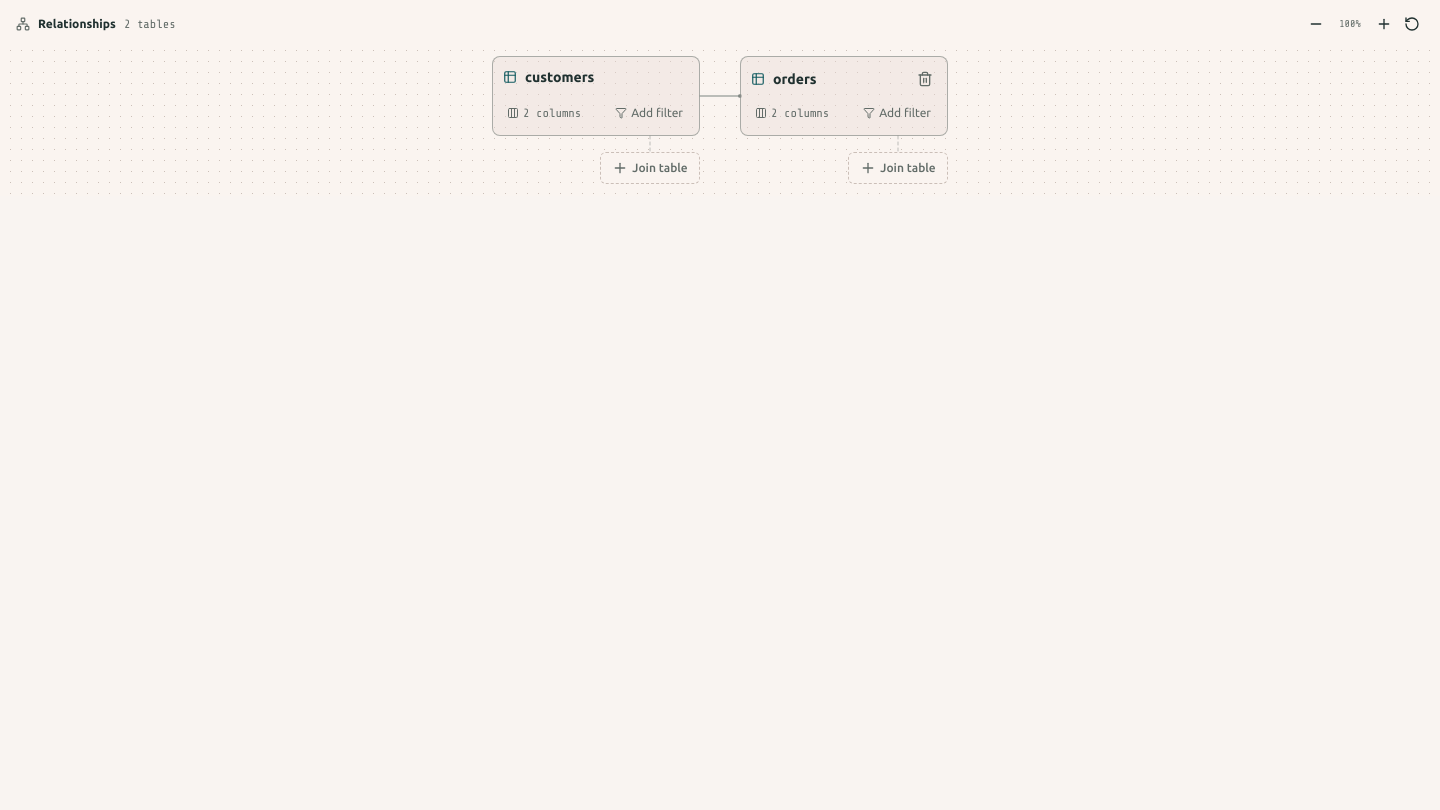
Test: TableNavigator › navigates results with arrows, skips already joined tables and ignores Enter with no matches
Click the button with aria-label "Add related table to customers".
click(650, 168)  # box [600,152,700,184]
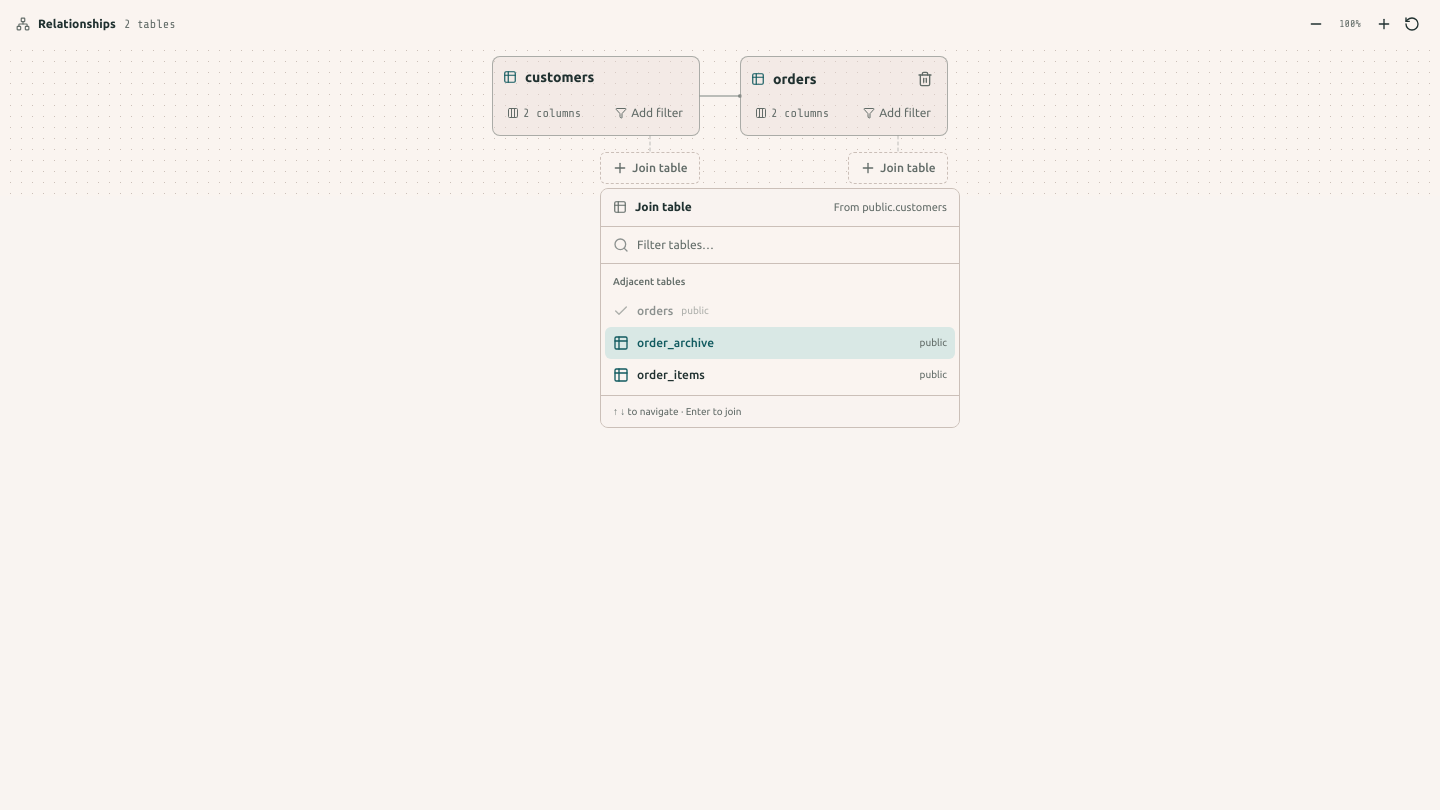
Type "missing" into the dropdown labelled "Filter tables".
click(792, 244); type("missing")  # box [637,226,947,262]
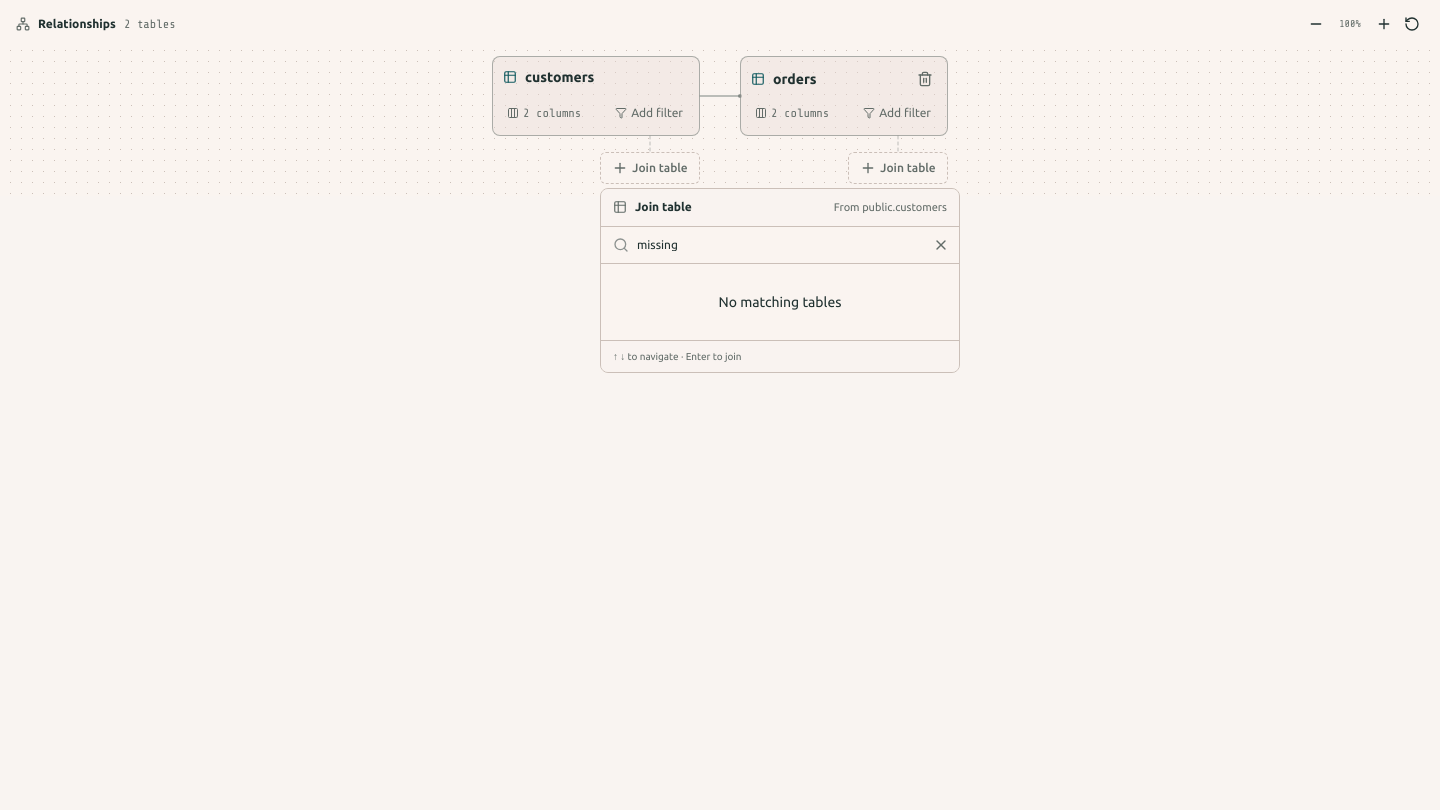
Press Enter
Result: the dialog is shown at [600,188,960,372]
Replace the text in the dropdown named "Filter tables" with "order" at (792, 244), box [637,226,947,262]
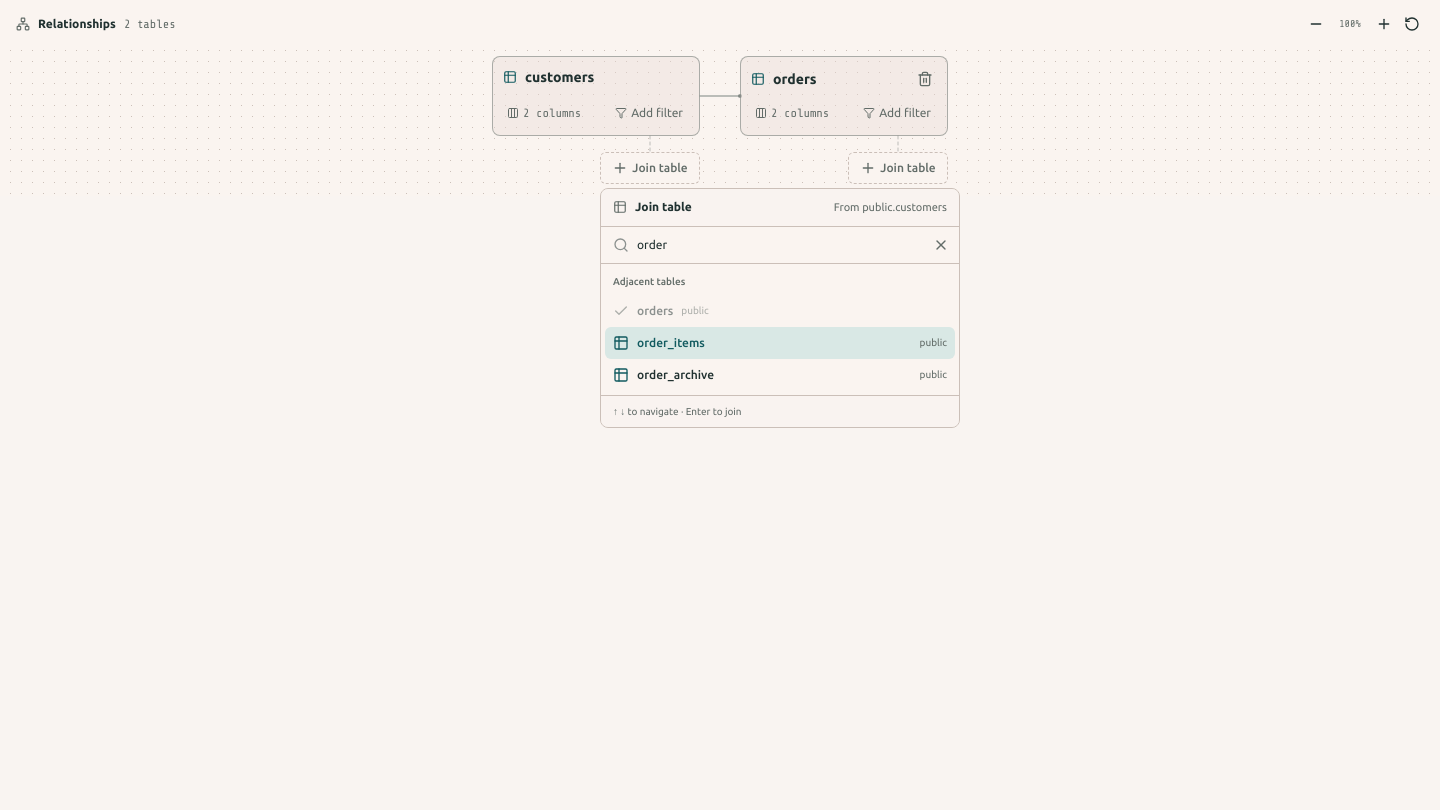
Result: the option "order_items public" is selected at [605,326,955,358]
Press Arrowdown
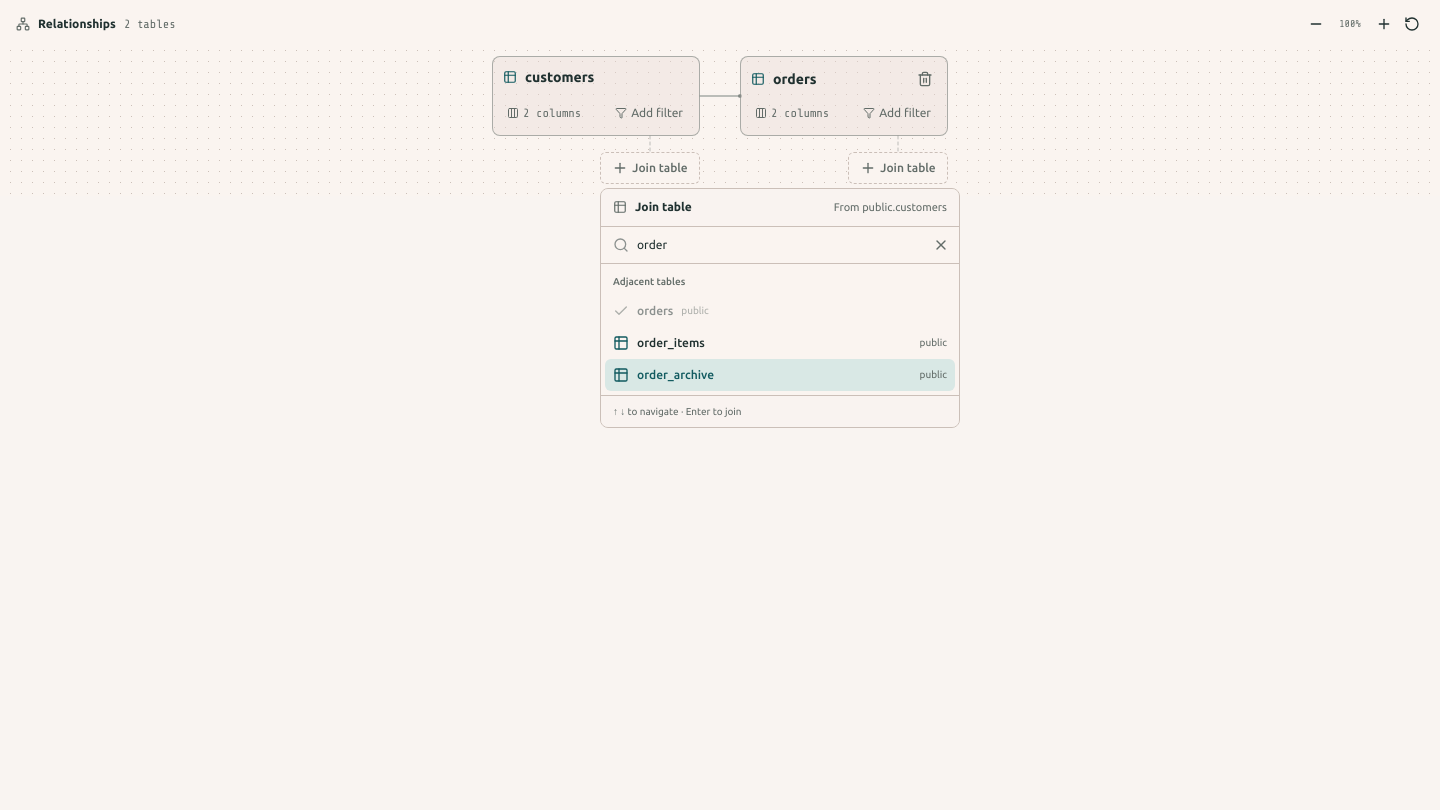
Result: the option "order_archive public" is selected at [605,358,955,390]
Press Arrowup
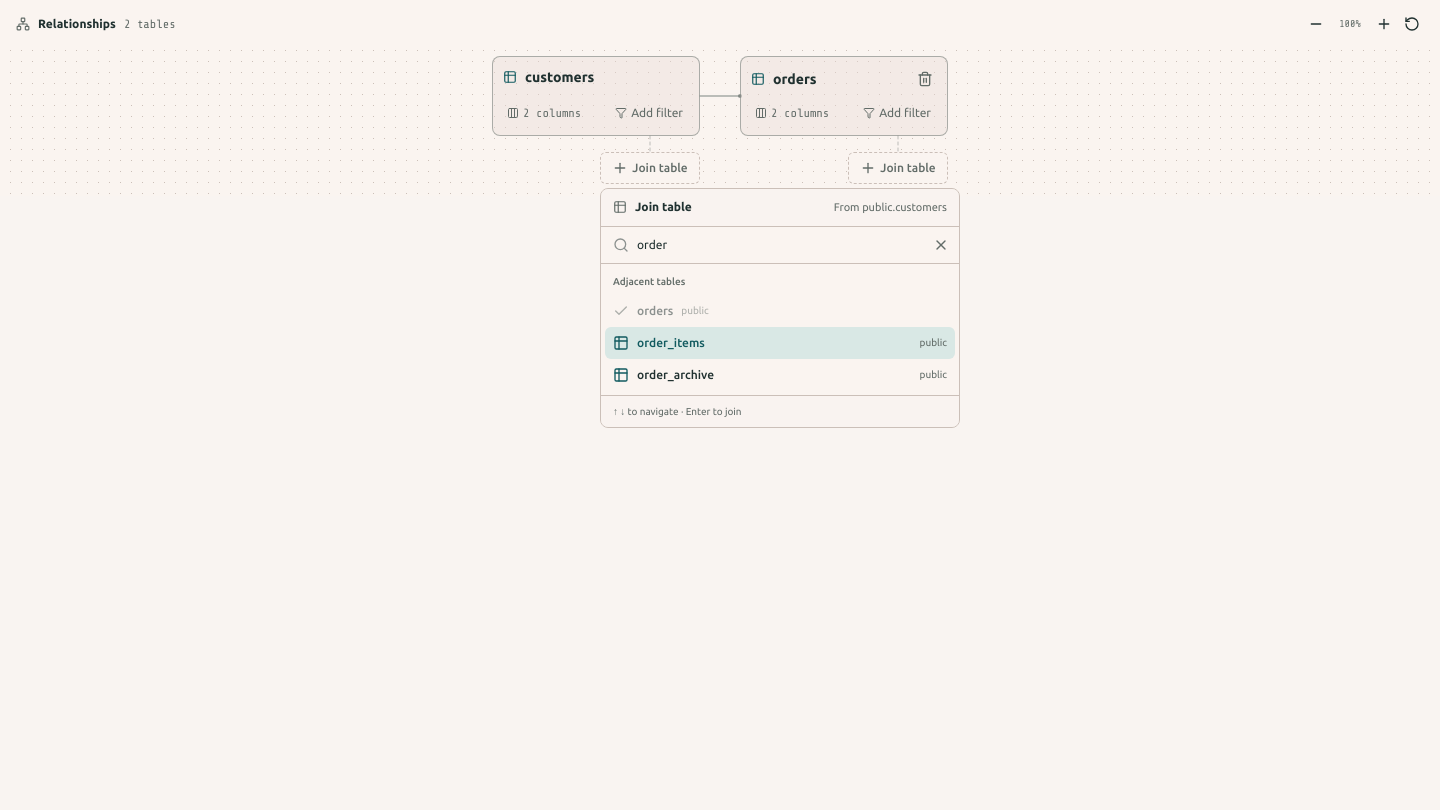
Result: the option "order_items public" is selected at [605,326,955,358]
Press Arrowdown Enter
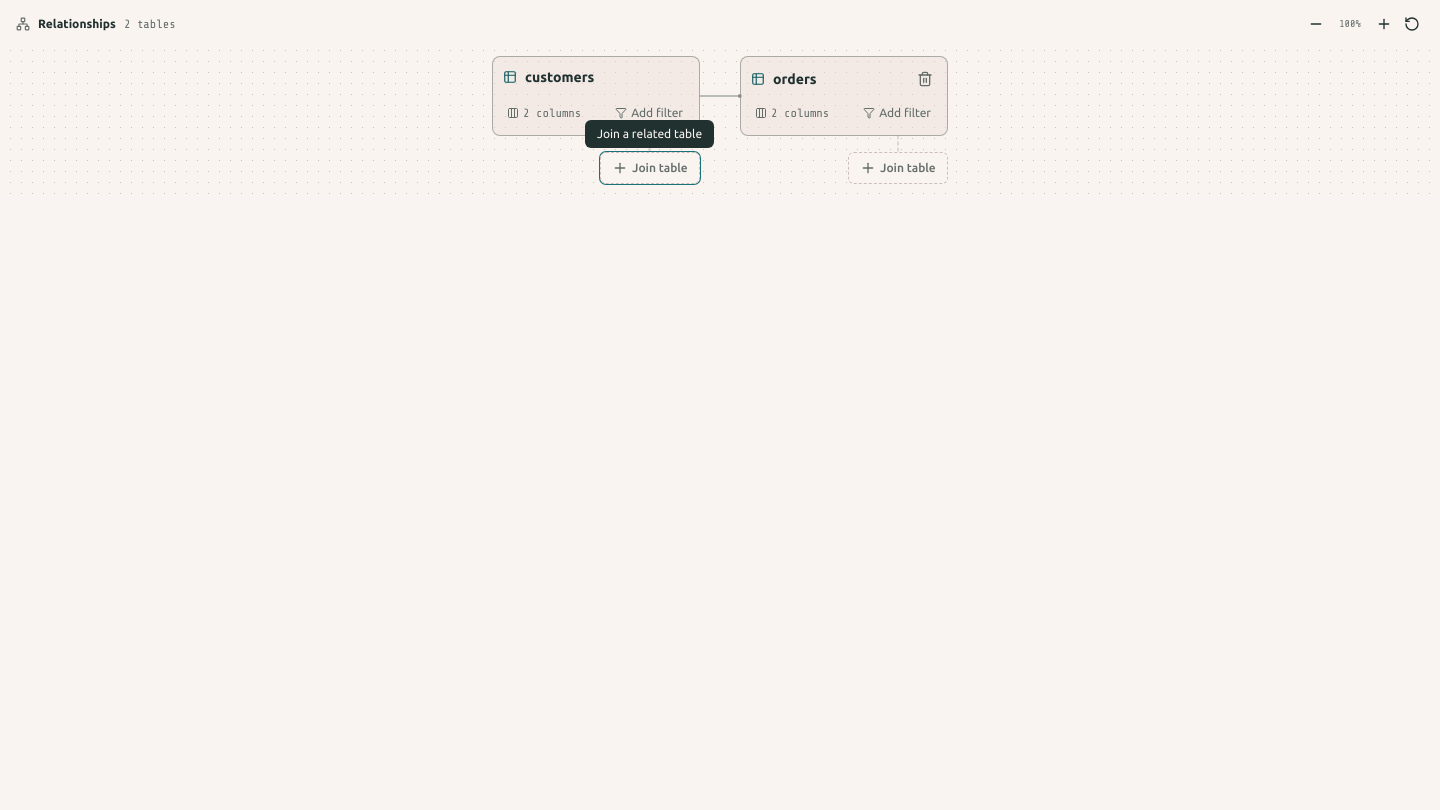
Result: the dialog is gone
